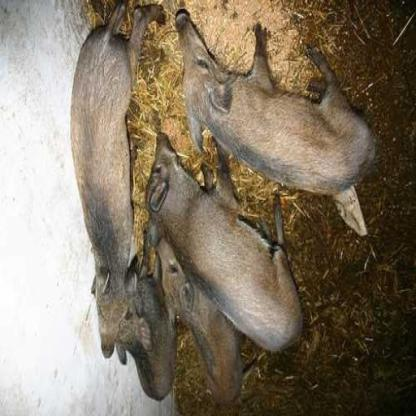boar: (171, 5, 377, 188), (133, 148, 309, 342), (73, 18, 136, 374), (154, 243, 224, 367)
